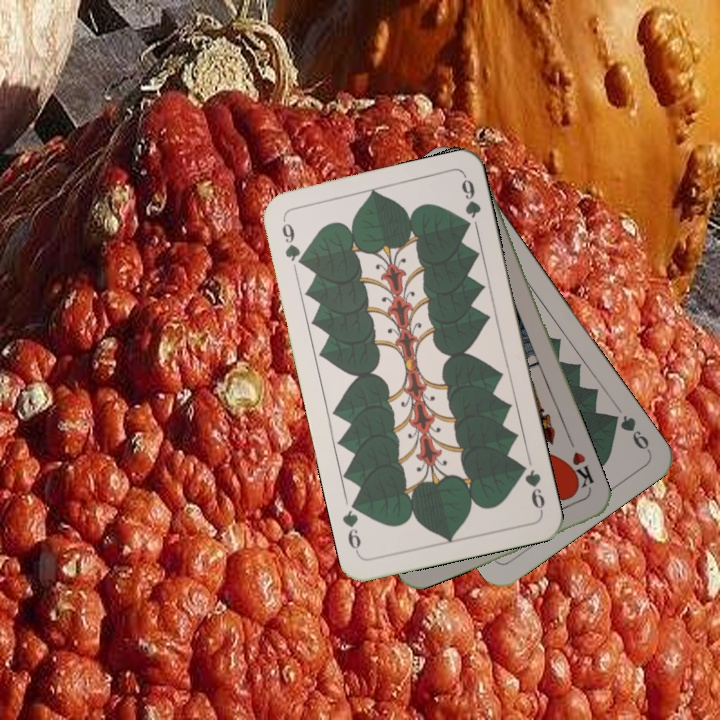G9: (605, 410, 653, 455), (515, 459, 548, 515), (277, 215, 307, 269)
HK: (561, 447, 597, 497)
